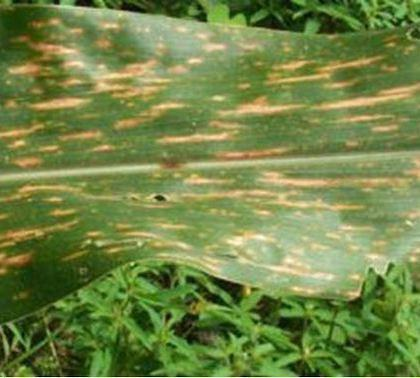Corn Gray leaf spot: (6, 2, 420, 331)
